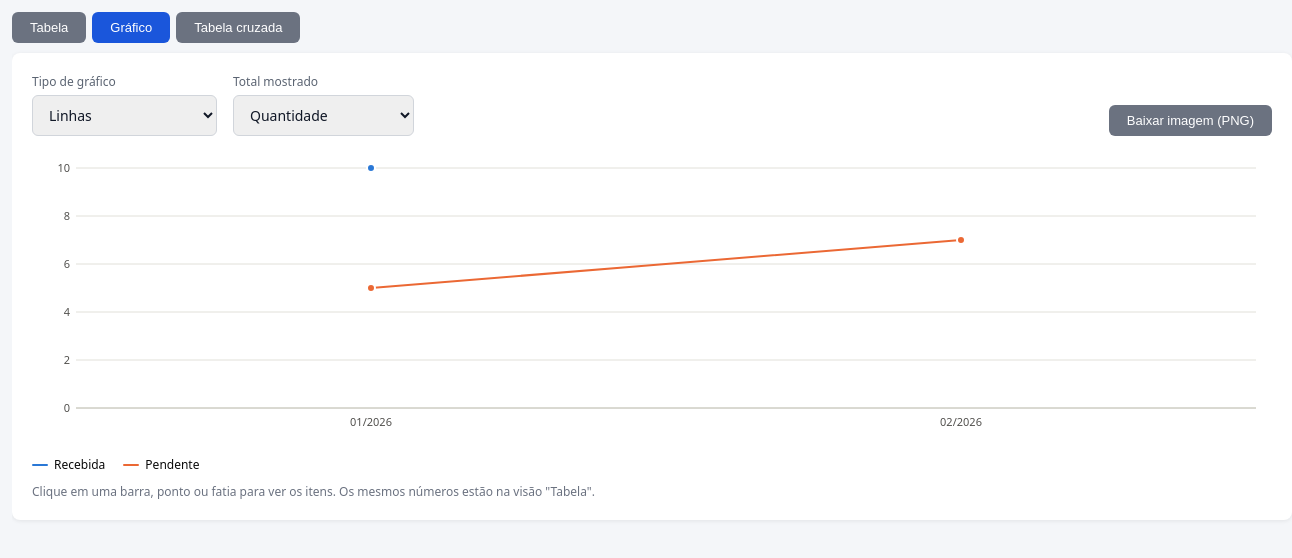
Resultado agrupado — três visões › dois níveis: legenda com as séries, empilhar e rosca bloqueada
Expected: the picture "0 2 4 6 8 10 01/2026 02/2026" is shown, left=32, top=148, right=1272, bottom=448
Expected: the list items read "Recebida", "Pendente", in this order, left=32, top=456, right=105, bottom=473; left=123, top=456, right=200, bottom=473
Select "Colunas" in the dropdown labelled "Tipo de gráfico" at (124, 116), box left=32, top=95, right=217, bottom=136
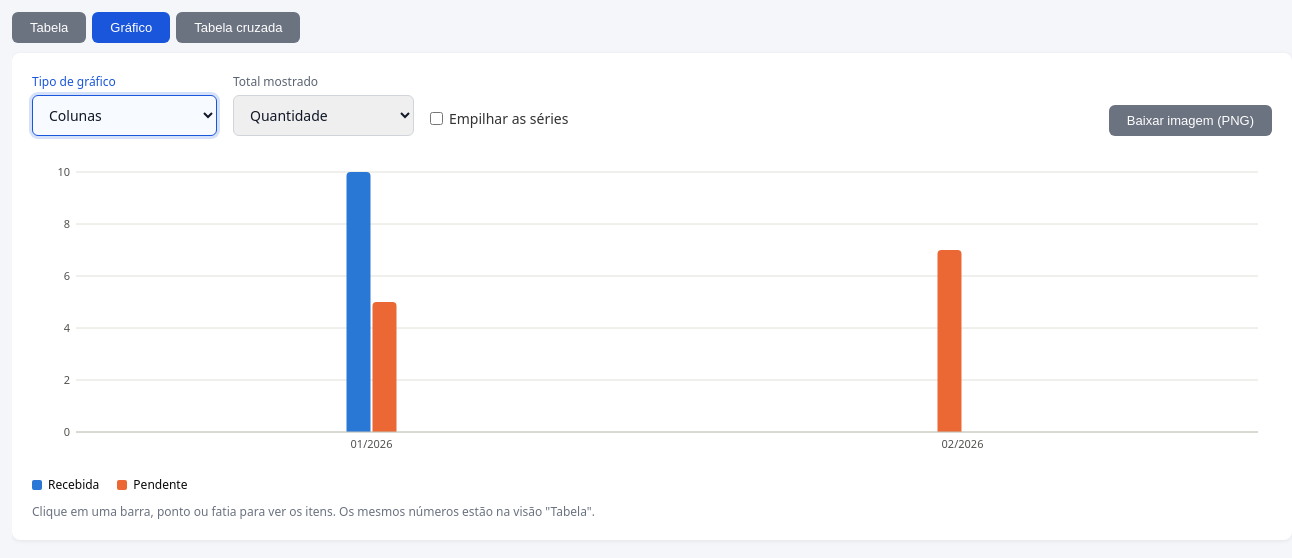
Click the checkbox labelled "Empilhar as séries".
click(436, 118)  # box left=430, top=112, right=443, bottom=125
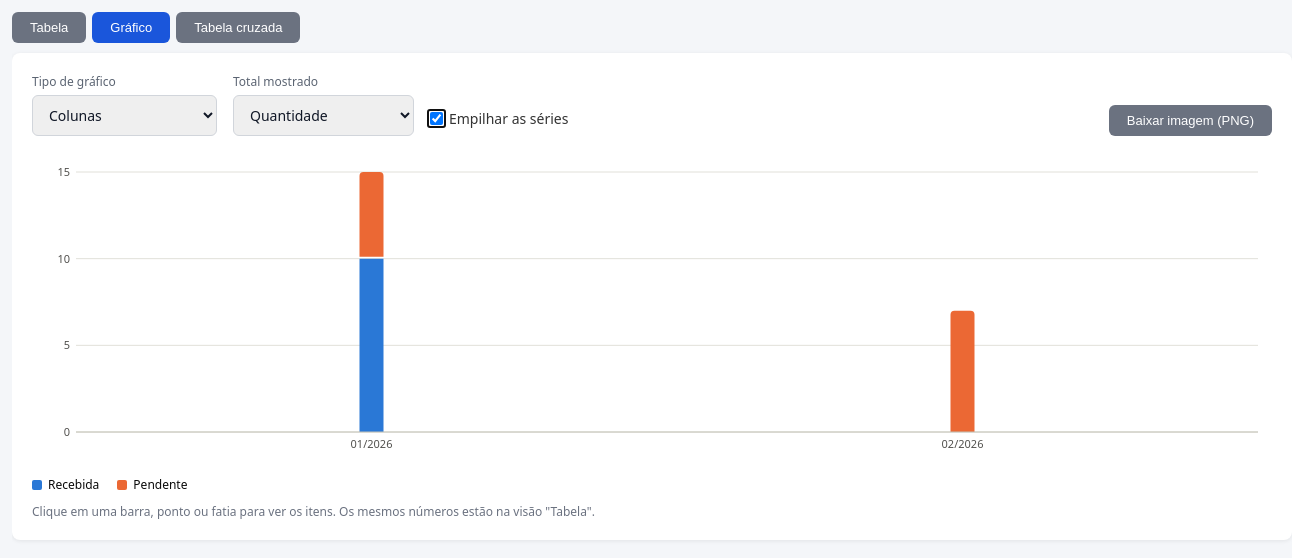
Expected: the checkbox labelled "Empilhar as séries" is checked, left=430, top=112, right=443, bottom=125
